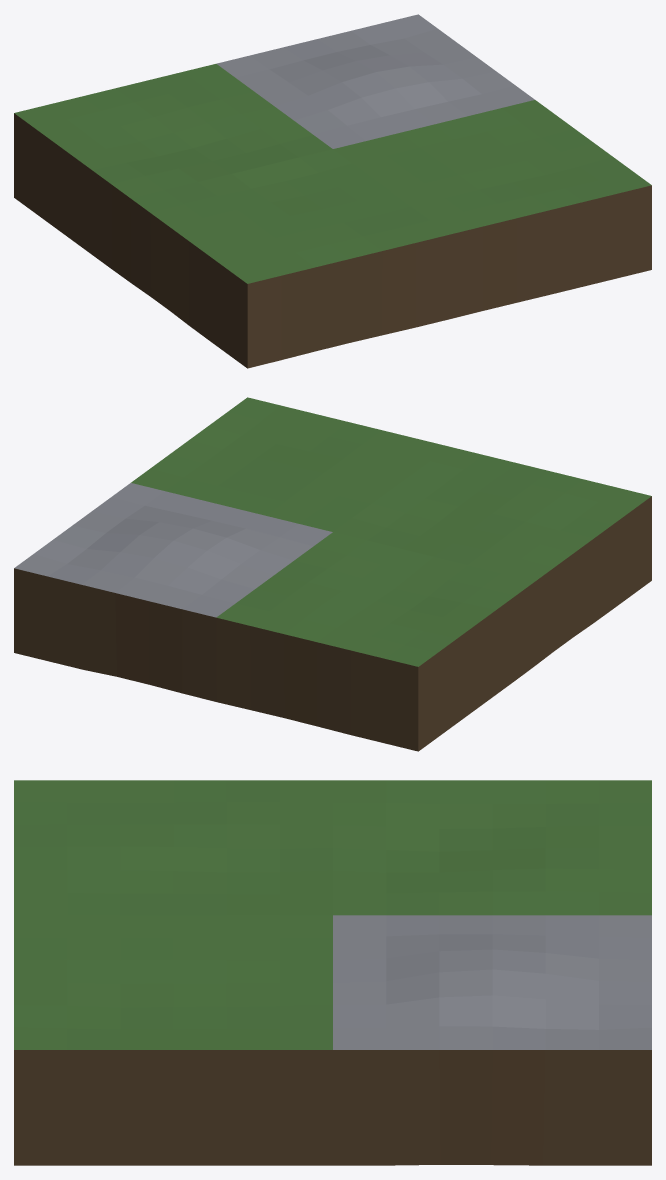
The model's file is grass_rock_corner.glb.
3 renders of one model, top to bottom at view 1: azimuth 30°, elevation 25°; view 2: azimuth 150°, elevation 25°; view 3: azimuth 270°, elevation 25°, orthographic. The views are drawn at different scales.
Parts seen in each view (by area): view 1: Grid; view 2: Grid; view 3: Grid.
Boxes of the visible parts, x1,y1,x2,y2 form: Grid: (14,14,651,368); Grid: (14,397,651,751); Grid: (14,780,651,1165).
Size of the model in its own units: 1 by 0.2227 by 1.
